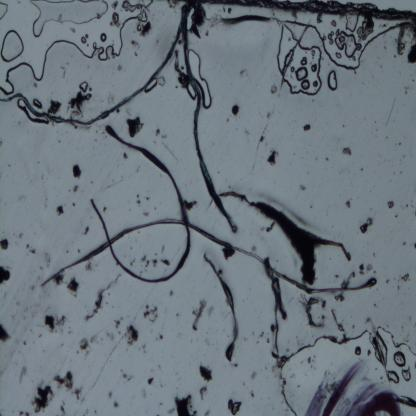Air bubble: (0, 0, 152, 98), (276, 323, 416, 416), (274, 26, 324, 98), (21, 0, 111, 34), (188, 50, 214, 109), (332, 30, 364, 59), (16, 98, 48, 126), (0, 30, 25, 62), (327, 70, 339, 93), (393, 351, 407, 367), (385, 370, 402, 383), (186, 83, 196, 101), (78, 79, 90, 93), (0, 0, 8, 20), (145, 79, 158, 91), (54, 203, 65, 217), (402, 367, 412, 382), (99, 32, 108, 43), (80, 34, 88, 45), (34, 100, 44, 108)
Background material: (216, 185, 352, 283), (31, 383, 54, 412), (50, 370, 75, 392), (136, 255, 173, 269), (68, 92, 92, 113), (173, 394, 196, 413), (142, 302, 160, 324), (197, 363, 215, 384), (44, 311, 60, 334), (330, 310, 344, 336), (224, 398, 244, 416), (125, 323, 140, 347), (127, 117, 144, 137), (128, 34, 142, 56), (0, 322, 12, 347), (19, 358, 31, 382), (358, 259, 374, 276), (340, 144, 356, 160), (48, 98, 64, 114), (358, 218, 375, 233), (266, 147, 278, 168), (407, 40, 416, 67), (186, 195, 198, 214), (66, 278, 80, 294), (198, 385, 210, 401), (140, 22, 153, 36), (194, 25, 204, 42), (71, 164, 82, 179), (121, 370, 134, 382), (71, 386, 82, 400), (342, 196, 351, 212), (133, 190, 142, 206), (79, 336, 90, 349), (0, 267, 10, 281), (386, 198, 396, 212), (0, 238, 10, 251), (298, 181, 307, 195), (24, 244, 35, 255), (115, 317, 125, 329), (18, 407, 31, 416), (401, 271, 411, 282), (120, 149, 130, 160), (157, 77, 166, 89), (302, 122, 312, 132), (146, 376, 156, 386), (258, 329, 267, 340), (113, 13, 120, 27), (85, 222, 92, 236), (59, 399, 65, 415), (100, 203, 109, 213), (252, 371, 259, 383), (108, 330, 116, 340), (71, 183, 79, 192), (154, 125, 160, 137), (157, 331, 163, 342), (141, 210, 150, 217), (108, 391, 115, 399), (70, 200, 76, 209), (112, 402, 119, 409), (271, 86, 277, 94), (88, 263, 93, 272), (249, 391, 255, 398), (334, 272, 340, 278), (324, 156, 330, 162), (372, 301, 377, 307), (258, 136, 264, 141), (170, 290, 174, 297), (398, 140, 402, 146), (406, 202, 410, 208), (402, 241, 406, 247), (413, 242, 416, 248), (395, 214, 398, 219)
Cellulose filter fibre: (33, 202, 391, 282), (202, 252, 244, 362), (263, 254, 283, 366), (84, 273, 122, 322), (304, 298, 326, 330), (192, 298, 209, 332)
Cotton: (1, 2, 236, 233)
Diatom: (230, 105, 240, 115)
Edge of slide: (185, 0, 416, 25)
Microfibre: (93, 125, 198, 282)
Pen: (307, 354, 401, 415)
